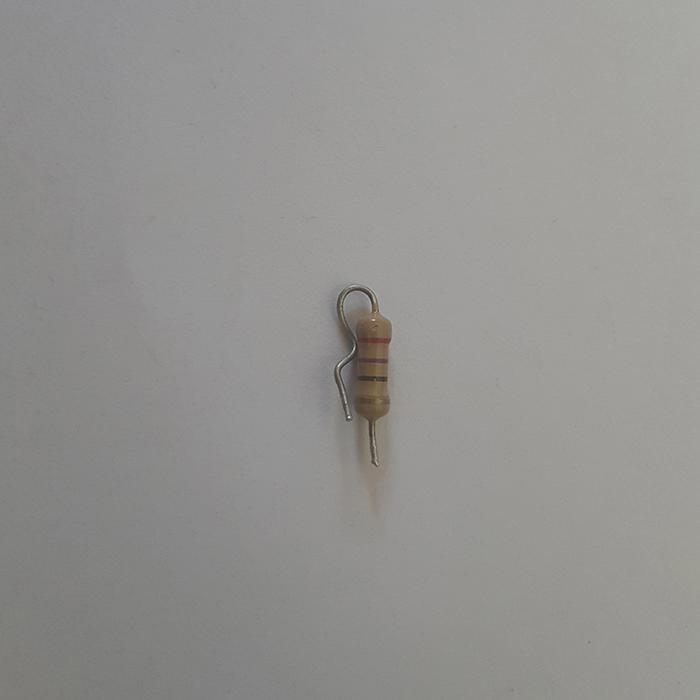resistor: (354, 308, 392, 426)
